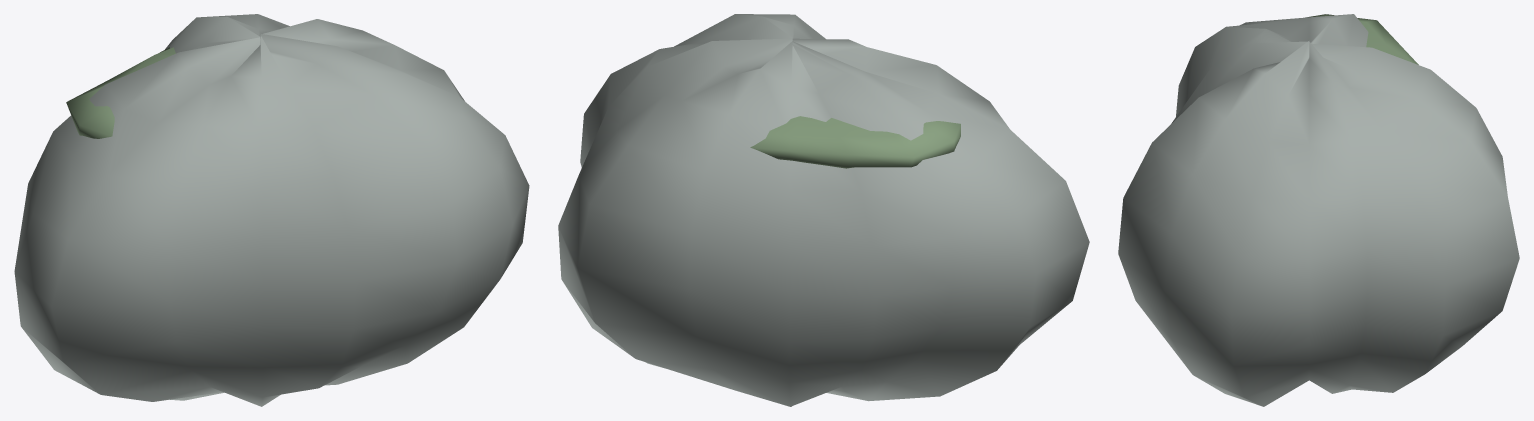
The model's file is SM_Rock_01.fbx.
3 views of the same model, side by side, from view 1: azimuth 30°, elevation 25°; view 2: azimuth 150°, elevation 25°; view 3: azimuth 270°, elevation 25° (orthographic). The views are drawn at different scales.
Parts seen in each view (by area): view 1: SM_Rock_01; view 2: SM_Rock_01; view 3: SM_Rock_01.
Boxes of the visible parts, x1,y1,x2,y2 form: SM_Rock_01: (14,14,529,406); SM_Rock_01: (558,14,1089,406); SM_Rock_01: (1118,14,1519,406).
Bounding box in the file's own units: 318 × 242 × 224.
